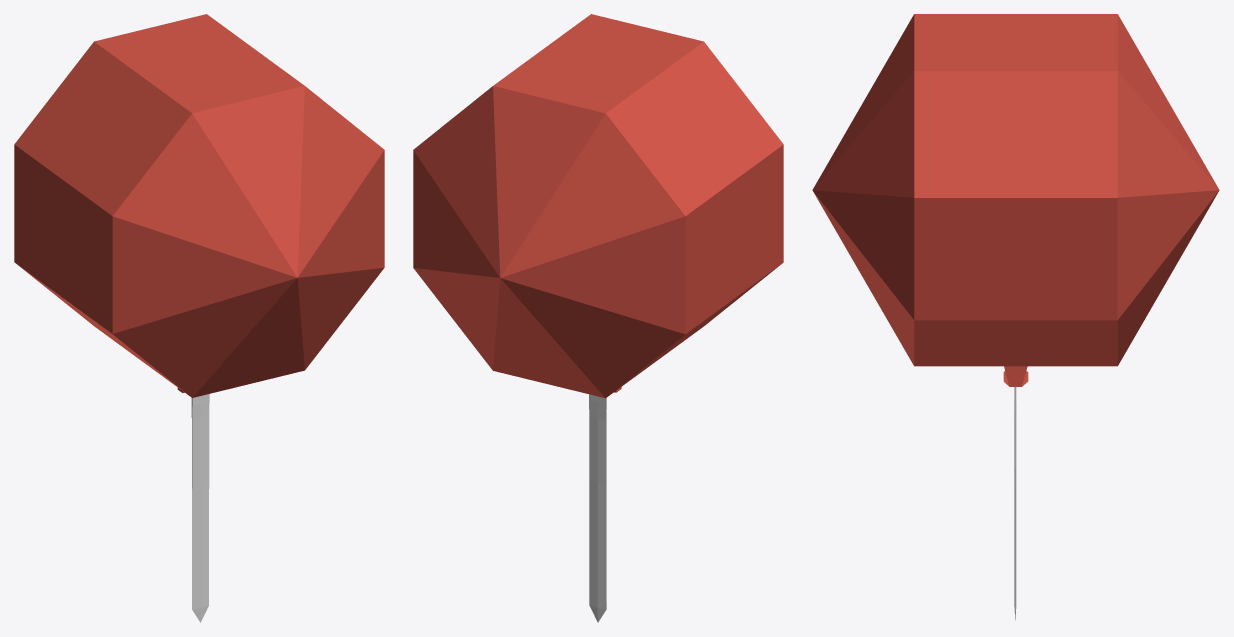
Rendered from swordsman.fbx.
The picture shows the model from 3 angles, left to right: view 1: azimuth 30°, elevation 25°; view 2: azimuth 150°, elevation 25°; view 3: azimuth 270°, elevation 25°; orthographic projection. The views are drawn at different scales.
Parts seen in each view (by area): view 1: Sphere; view 2: Sphere; view 3: Sphere.
Boxes of the visible parts, x1,y1,x2,y2 form: Sphere: (14, 14, 384, 622); Sphere: (413, 14, 783, 622); Sphere: (812, 14, 1219, 620).
Size of the model in its own units: 160 by 314 by 200.
